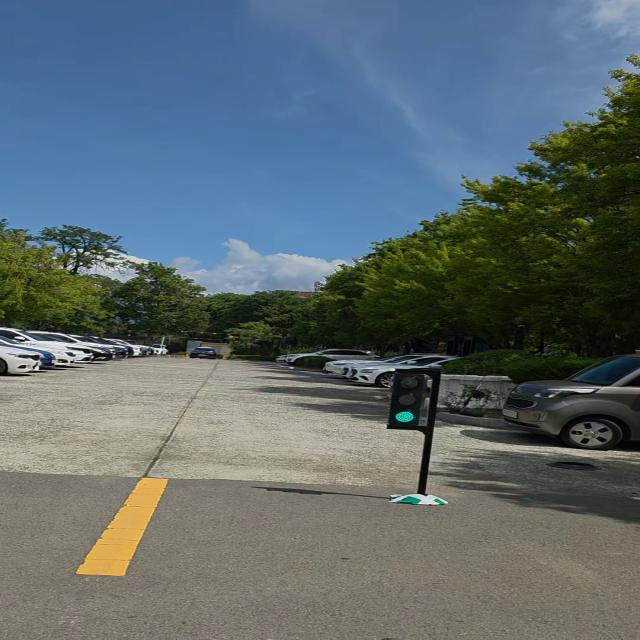green: (388, 368, 428, 432)
